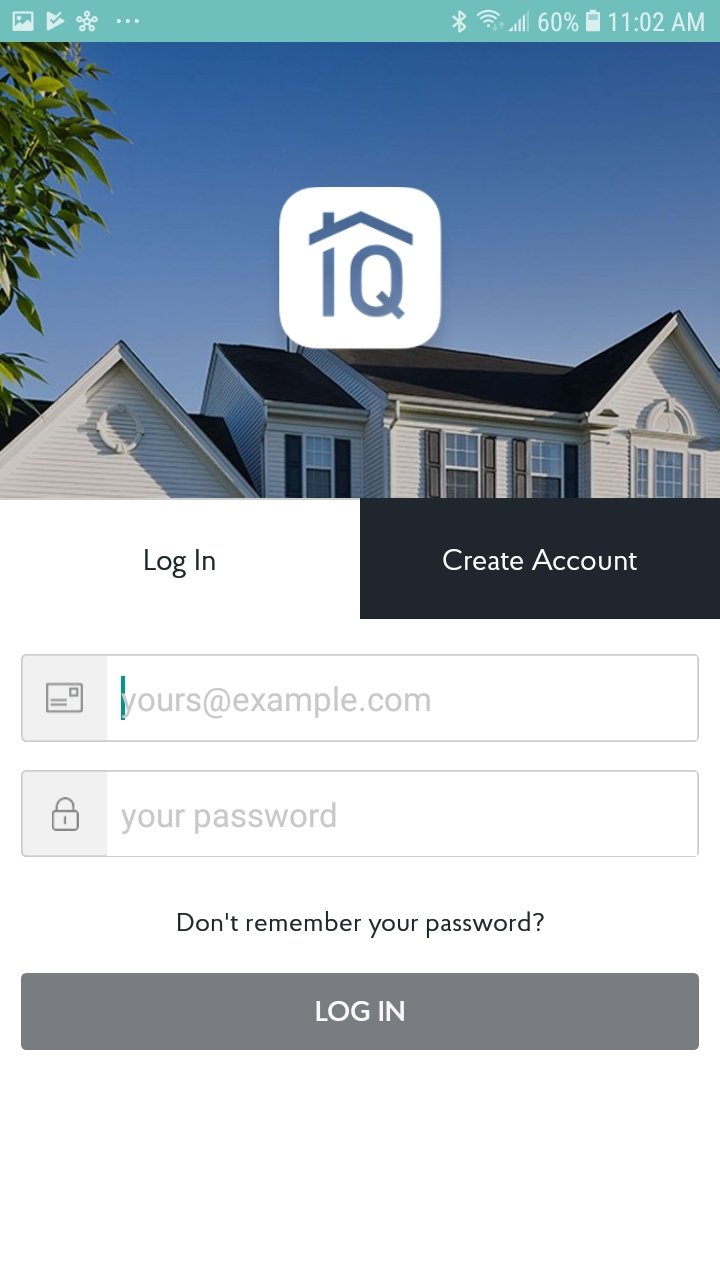EditText: (21, 655, 699, 743), (21, 771, 699, 858)
Icon: (47, 682, 84, 714), (52, 797, 80, 832)
Image: (1, 43, 720, 499), (279, 188, 441, 349)
Text: (179, 911, 545, 939), (122, 686, 431, 719), (122, 802, 337, 835), (146, 549, 216, 579)
TextButton: (22, 973, 700, 1050), (360, 499, 720, 620)
UpperTaskBar: (1, 1, 720, 43)
